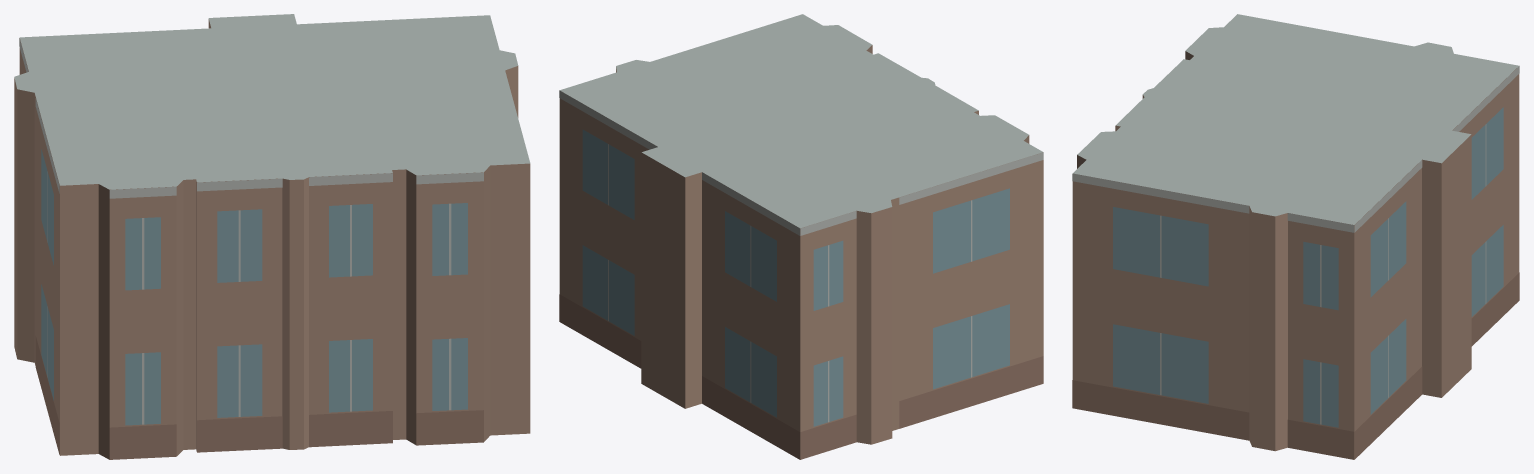
File: survey-upis-32969141.glb
3 renders of one model, left to right at view 1: azimuth 30°, elevation 25°; view 2: azimuth 150°, elevation 25°; view 3: azimuth 270°, elevation 25°, orthographic. The views are drawn at different scales.
Visible parts, largest first — view 1: survey-upis-32969141.tmp; view 2: survey-upis-32969141.tmp; view 3: survey-upis-32969141.tmp.
Boxes of the visible parts, bbox=[...] form: survey-upis-32969141.tmp: bbox=[14, 14, 530, 459]; survey-upis-32969141.tmp: bbox=[559, 14, 1043, 459]; survey-upis-32969141.tmp: bbox=[1072, 14, 1519, 459].
Bounding box in the file's own units: 14.08 × 7.3 × 12.6.
